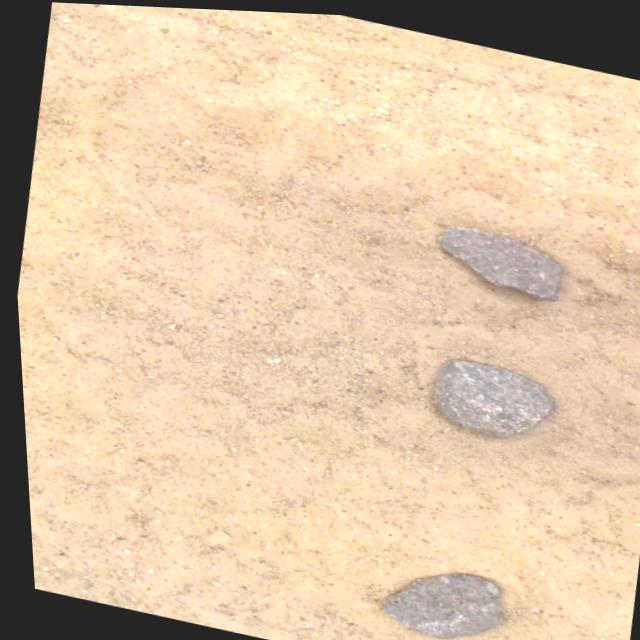rock: (428, 354, 548, 431), (435, 221, 557, 292), (374, 568, 496, 633)
